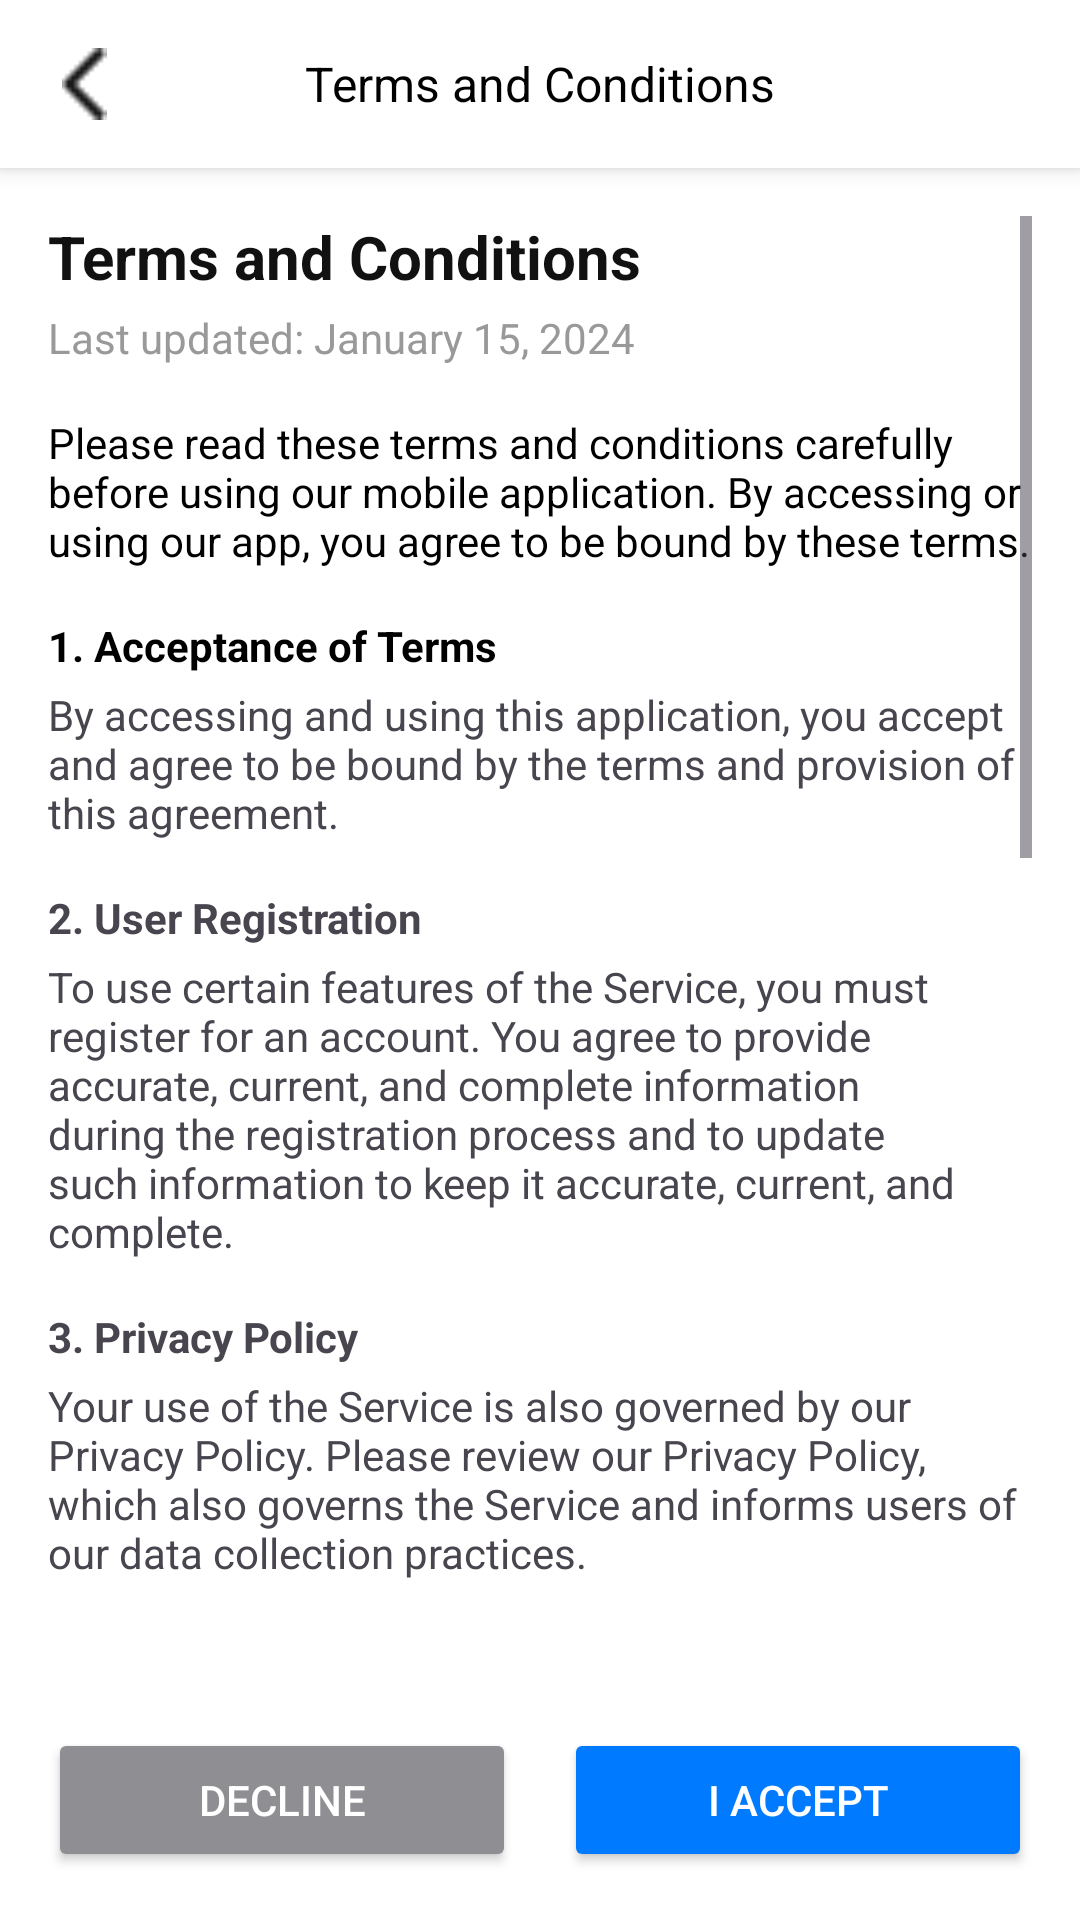

Icon bounding boxes for this 1080×1920 phone screenshot, format bbox(x1, y1, x2, y2):
Back: bbox(62, 48, 107, 120)
